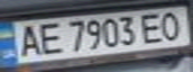0: (100, 15, 124, 48)
3: (118, 12, 142, 47)
7: (63, 17, 87, 52)
9: (84, 17, 106, 52)
A: (12, 21, 45, 59)
E: (136, 10, 169, 44), (33, 19, 63, 56)
O: (157, 9, 187, 40)
